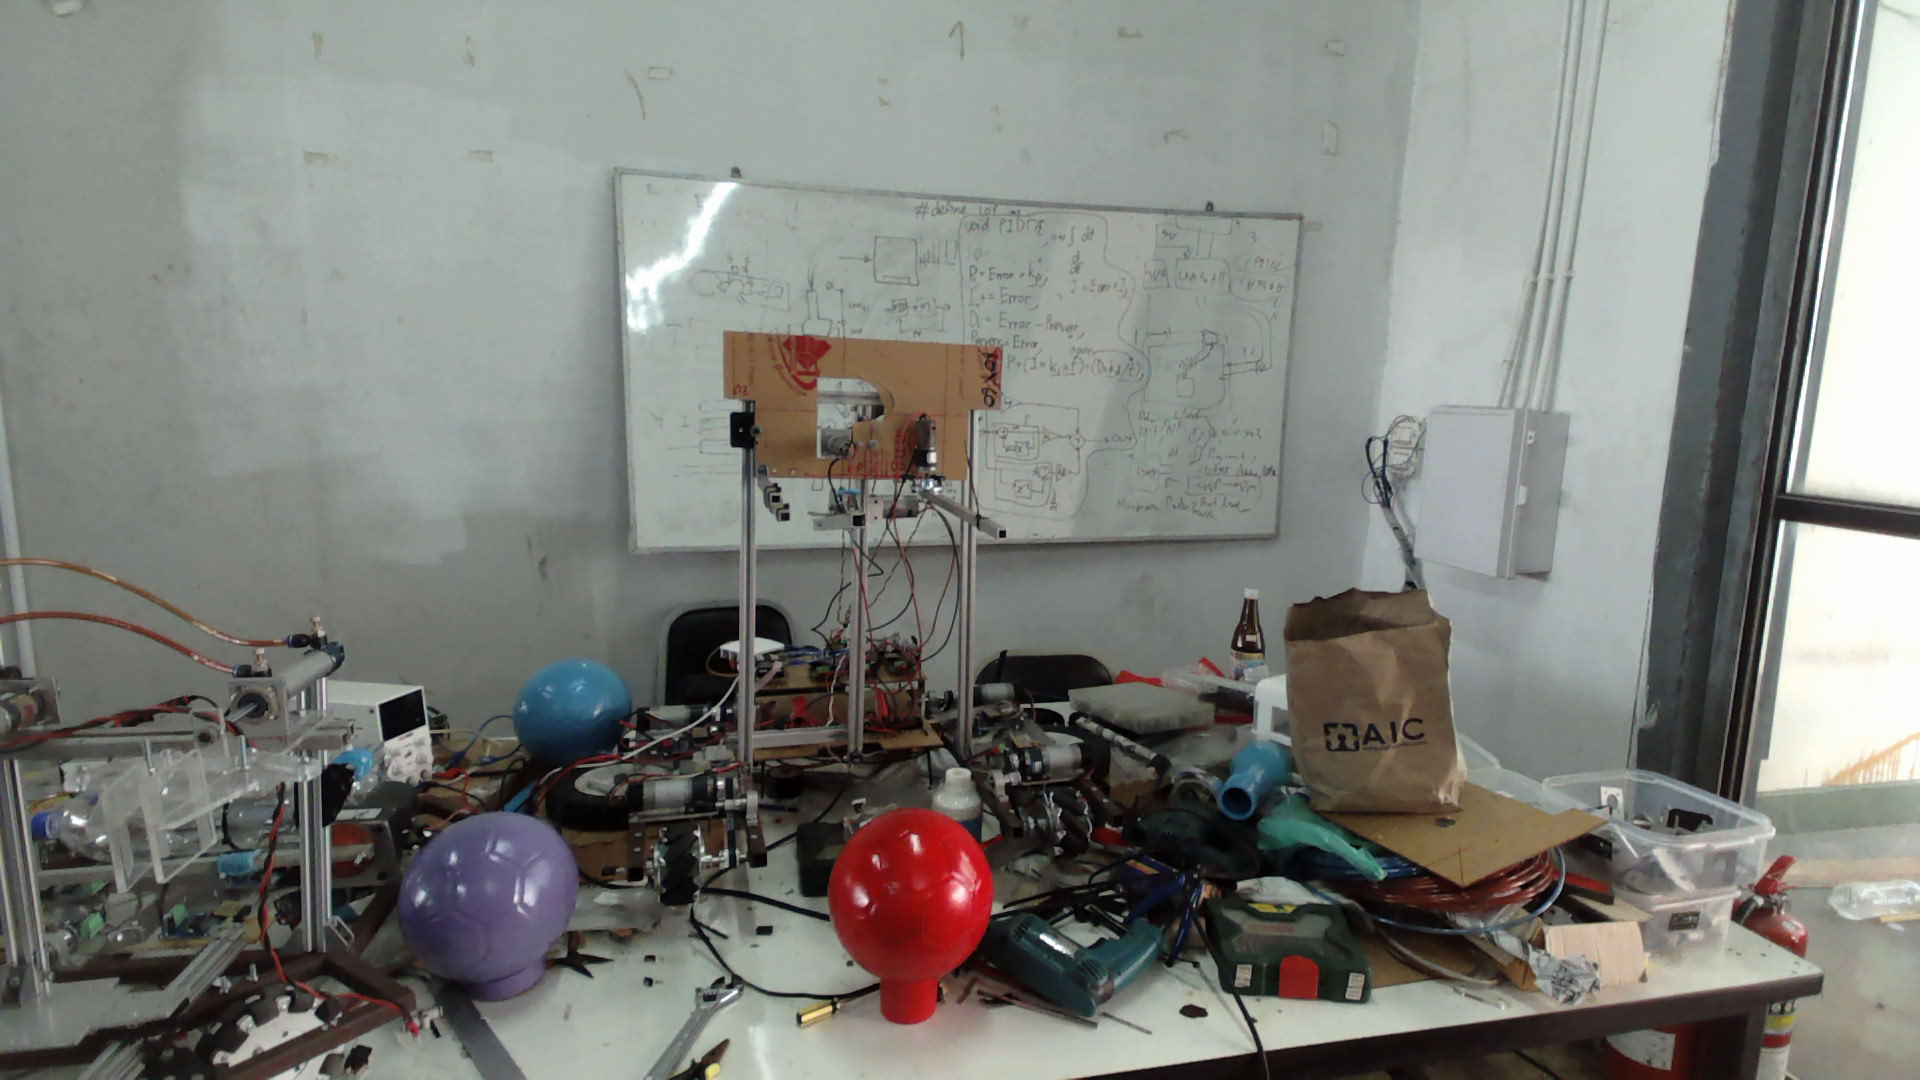Blue ball: (512, 655, 634, 761)
Purple ball: (394, 808, 583, 985)
Red ball: (824, 804, 997, 986)
